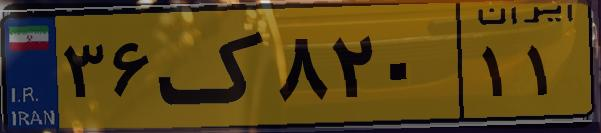0: (385, 28, 445, 110)
1: (475, 38, 525, 113), (525, 38, 570, 115)
2: (330, 28, 385, 110)
3: (57, 26, 110, 100)
6: (110, 28, 158, 98)
8: (270, 28, 330, 110)
ک: (158, 12, 270, 120)
